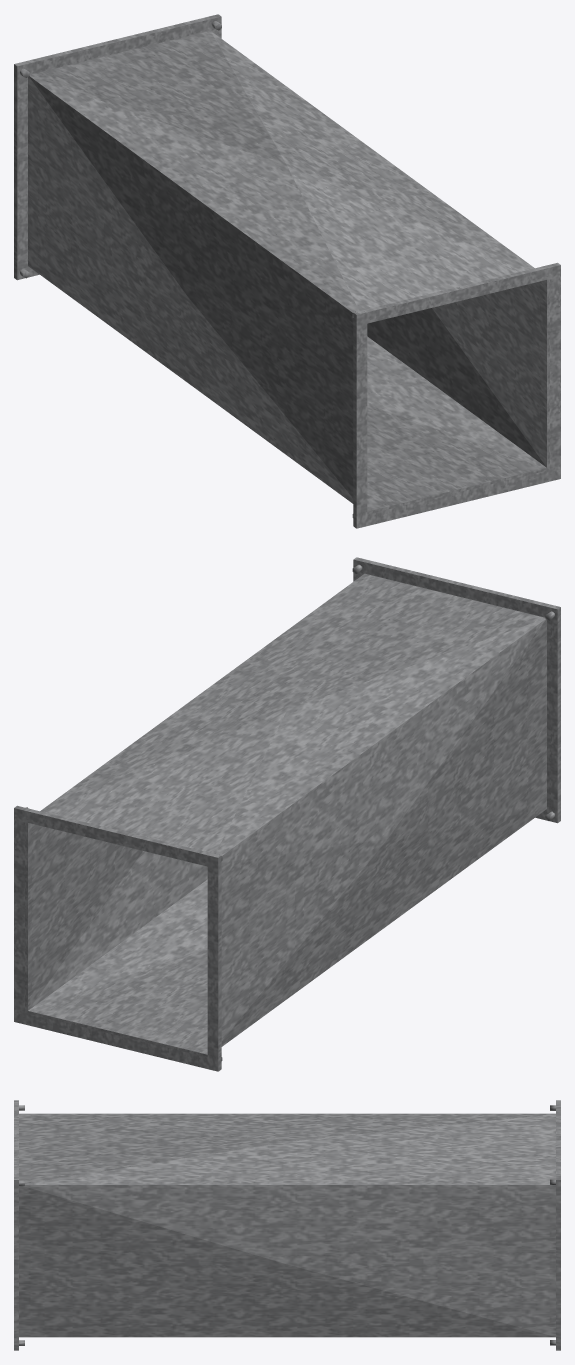
Rendered from duct.glb.
3 renders of one model, top to bottom at view 1: azimuth 30°, elevation 25°; view 2: azimuth 150°, elevation 25°; view 3: azimuth 270°, elevation 25°, orthographic. The views are drawn at different scales.
Visible parts, largest first — view 1: duct; view 2: duct; view 3: duct.
Boxes of the visible parts, x1,y1,x2,y2 form: duct: (14, 14, 560, 528); duct: (14, 557, 560, 1071); duct: (14, 1100, 560, 1350).
Bounding box in the file's own units: 0.6886 × 0.6886 × 2.
1 material, 1 textured.
